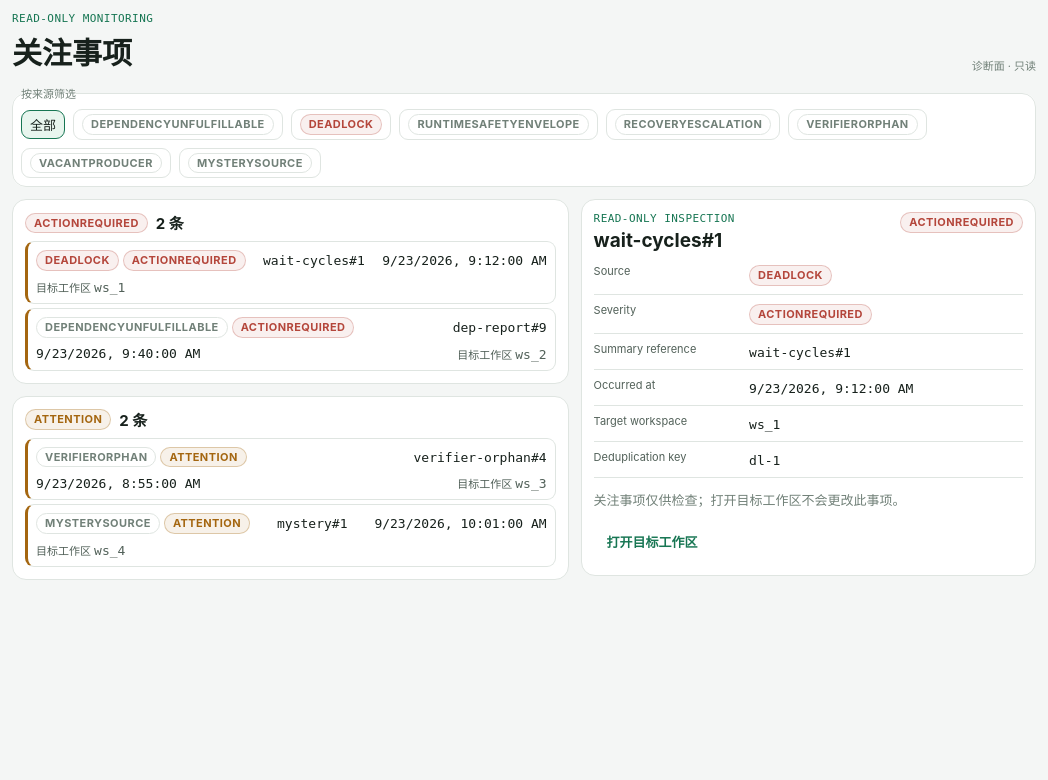
W-06 关注事项页（只读） › VerifierOrphan 检查展示精确 Work/Verification/revision 绑定但不暴露未经解析的重试动作
The image size is (1048, 780).
Expected: the text "verifier-orphan#4" is shown, [414,450,547,465]
Click the button "verifier-orphan#4" at x=96, y=457, box [25,438,556,500]
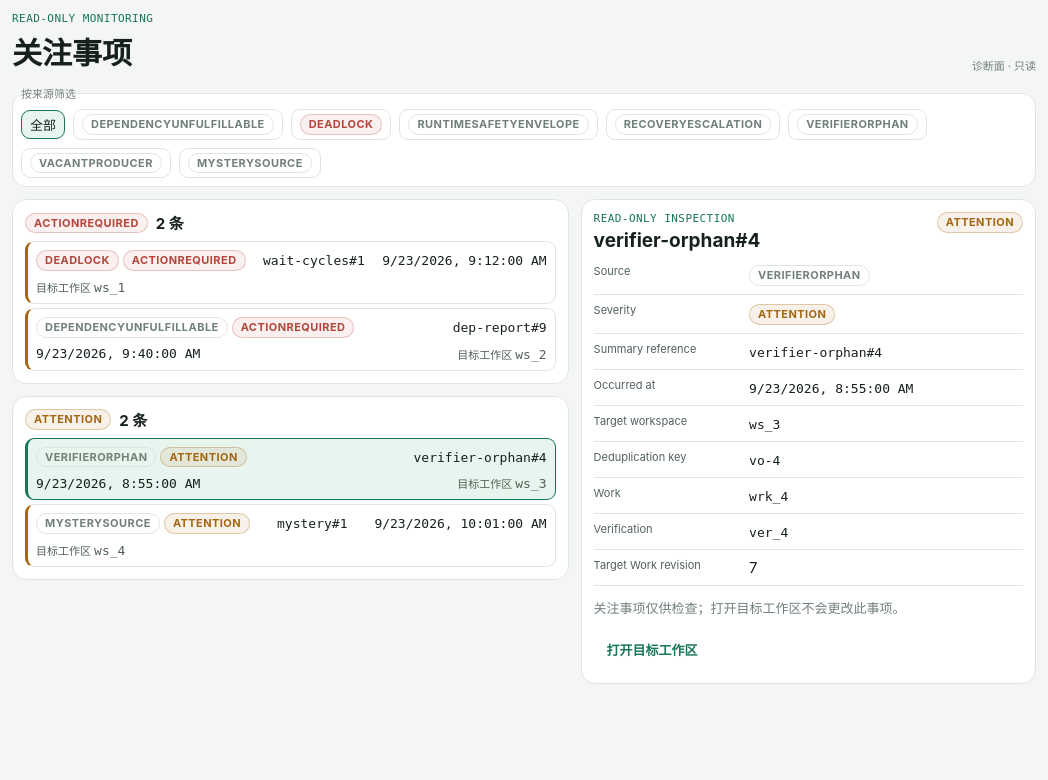
Now the text "wrk_4" is shown, box [749,489,788,504]
Now the text "ver_4" is shown, box [749,525,788,540]
Now the text "Target Work revision" is shown, box [594,558,701,572]
